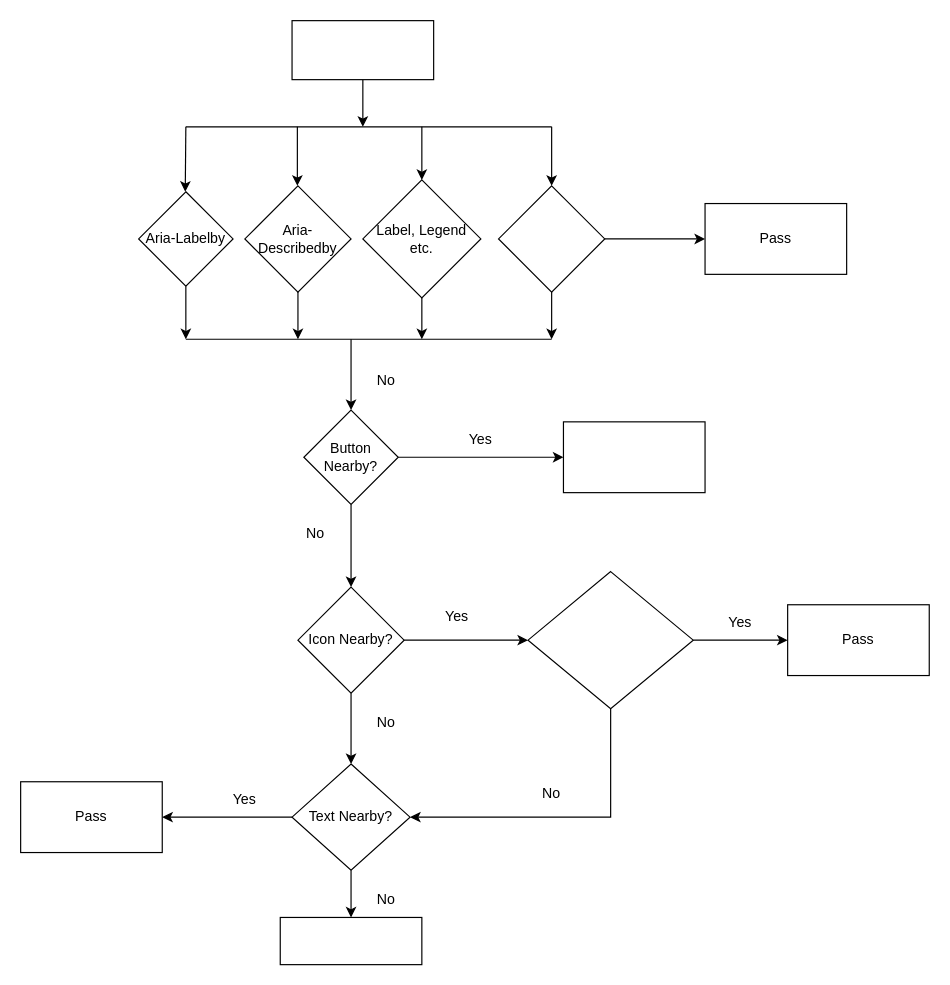
The diagram is 950 pixels wide and 985 high, and some of its shapes have lost their labels. The shapes that lost their labels are listed below. From the top down, each one's box as (x1, y1, x2, y2) in pixels, then its label:
(291, 19, 434, 80): Text Input / Text Area
(497, 185, 605, 292): Other DOM check
(562, 421, 705, 493): Needs Review
(527, 570, 693, 709): Icon Association with searchbar?
(279, 916, 422, 965): Violation
